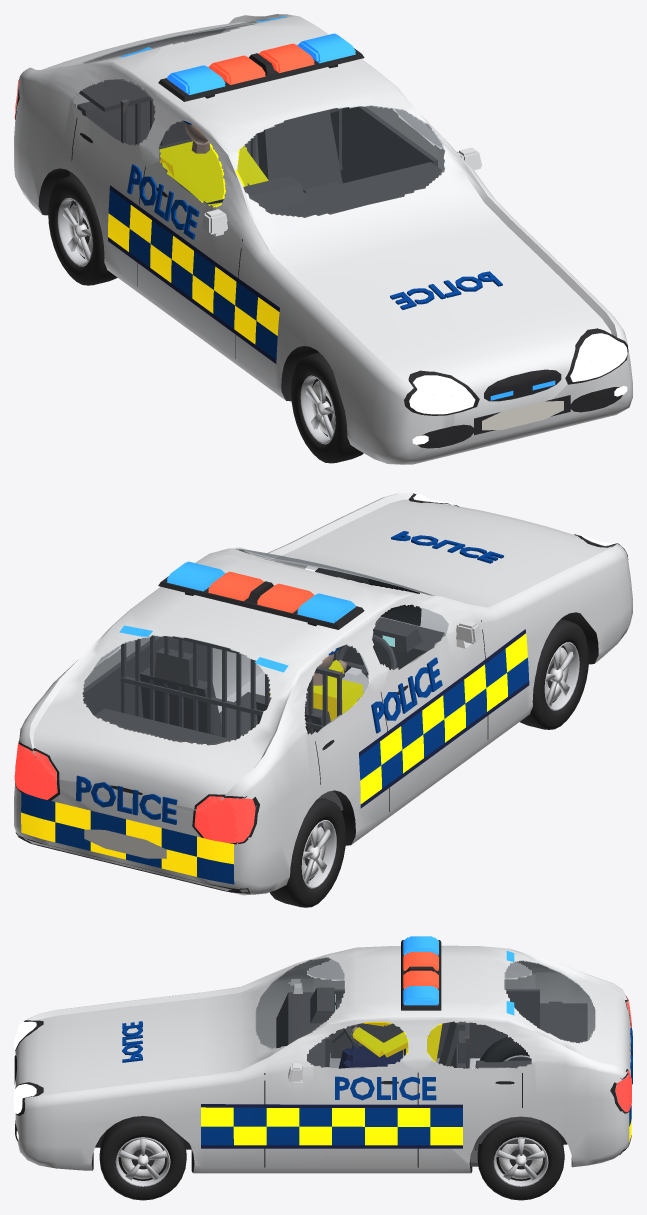
File: cruiser.glb
3 views of the same model, one above another, from view 1: azimuth 30°, elevation 25°; view 2: azimuth 150°, elevation 25°; view 3: azimuth 270°, elevation 25° (orthographic). The views are drawn at different scales.
Parts seen in each view (by area): view 1: body, glass, interior, trim, livery_blue, wheel_fr, wheel_rr, livery_yellow, lights, driver, lightbar_blue, lightbar_red (+3 smaller); view 2: body, glass, interior, livery_blue, livery_yellow, trim, wheel_rr, wheel_fr, lights, lightbar_blue, lightbar_red, livery_dark (+3 smaller); view 3: body, glass, interior, livery_blue, wheel_fl, wheel_rl, livery_yellow, driver, trim, livery_dark, lightbar_blue, lights (+3 smaller).
Boxes of the visible parts, left/top/right/bottom form: body: left=14, top=14, right=632, bottom=464; glass: left=73, top=19, right=443, bottom=215; interior: left=70, top=79, right=441, bottom=217; trim: left=15, top=48, right=628, bottom=448; livery_blue: left=108, top=164, right=502, bottom=359; wheel_fr: left=291, top=352, right=363, bottom=463; wheel_rr: left=48, top=176, right=117, bottom=285; livery_yellow: left=108, top=205, right=279, bottom=344; lights: left=14, top=80, right=627, bottom=444; driver: left=159, top=120, right=268, bottom=207; lightbar_blue: left=167, top=33, right=355, bottom=94; lightbar_red: left=208, top=43, right=314, bottom=84; body: left=14, top=493, right=632, bottom=895; glass: left=83, top=549, right=448, bottom=743; interior: left=82, top=617, right=444, bottom=827; livery_blue: left=21, top=531, right=529, bottom=884; livery_yellow: left=21, top=633, right=527, bottom=876; trim: left=15, top=493, right=628, bottom=893; wheel_rr: left=270, top=798, right=345, bottom=907; wheel_fr: left=520, top=619, right=588, bottom=729; lights: left=14, top=493, right=624, bottom=842; lightbar_blue: left=167, top=561, right=355, bottom=623; lightbar_red: left=208, top=571, right=314, bottom=613; livery_dark: left=359, top=629, right=529, bottom=808; body: left=15, top=945, right=630, bottom=1173; glass: left=256, top=957, right=594, bottom=1067; interior: left=276, top=987, right=587, bottom=1166; livery_blue: left=122, top=1021, right=632, bottom=1145; wheel_fl: left=99, top=1116, right=186, bottom=1200; wheel_rl: left=477, top=1120, right=564, bottom=1200; livery_yellow: left=201, top=1107, right=631, bottom=1145; driver: left=338, top=1021, right=442, bottom=1068; trim: left=14, top=940, right=631, bottom=1172; livery_dark: left=201, top=1104, right=462, bottom=1148; lightbar_blue: left=403, top=936, right=438, bottom=1005; lights: left=14, top=996, right=631, bottom=1139.
Bounding box in the file's own units: 1.7 × 1.43 × 4.28.
